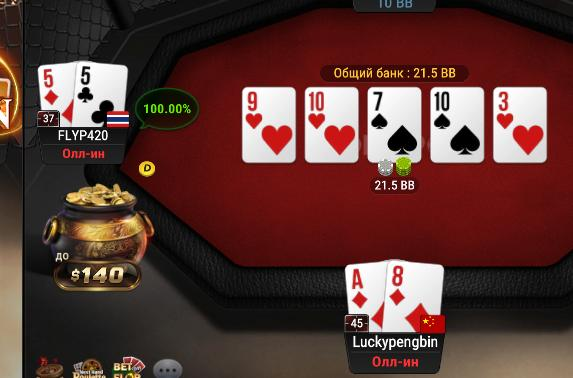10h: (305, 88, 359, 161)
10s: (432, 88, 484, 162)
3h: (493, 88, 547, 162)
5c: (75, 61, 127, 126)
5d: (37, 61, 76, 127)
7s: (368, 87, 421, 163)
8d: (386, 260, 444, 334)
9h: (243, 86, 295, 162)
Ad: (344, 263, 386, 333)
